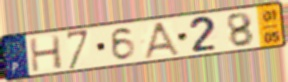2: (188, 13, 222, 56)
6: (109, 25, 138, 62)
7: (65, 28, 92, 71)
8: (225, 11, 255, 48)
A: (141, 20, 182, 61)
H: (28, 33, 65, 74)
